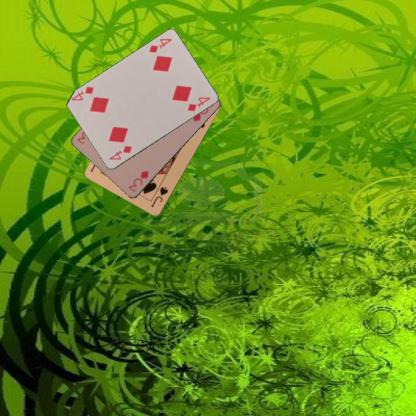3d: (126, 168, 150, 194)
4d: (146, 36, 173, 54), (107, 143, 133, 161)
Js: (148, 184, 169, 209)
